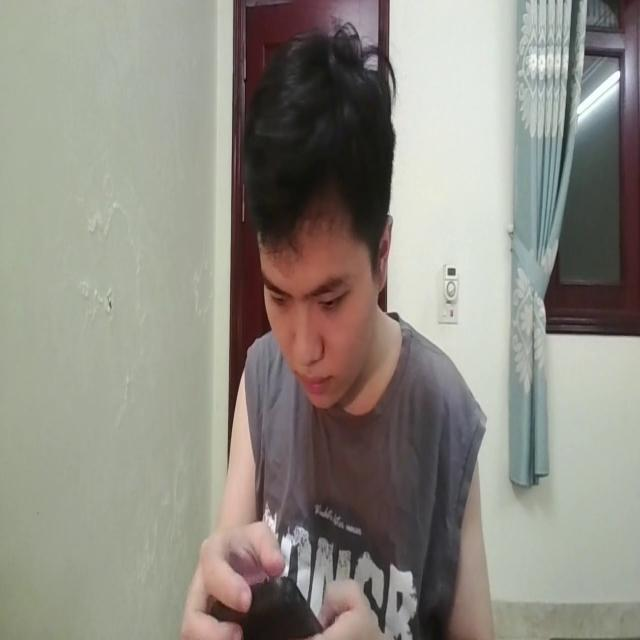phone: (211, 566, 317, 640)
student: (157, 22, 491, 640)
